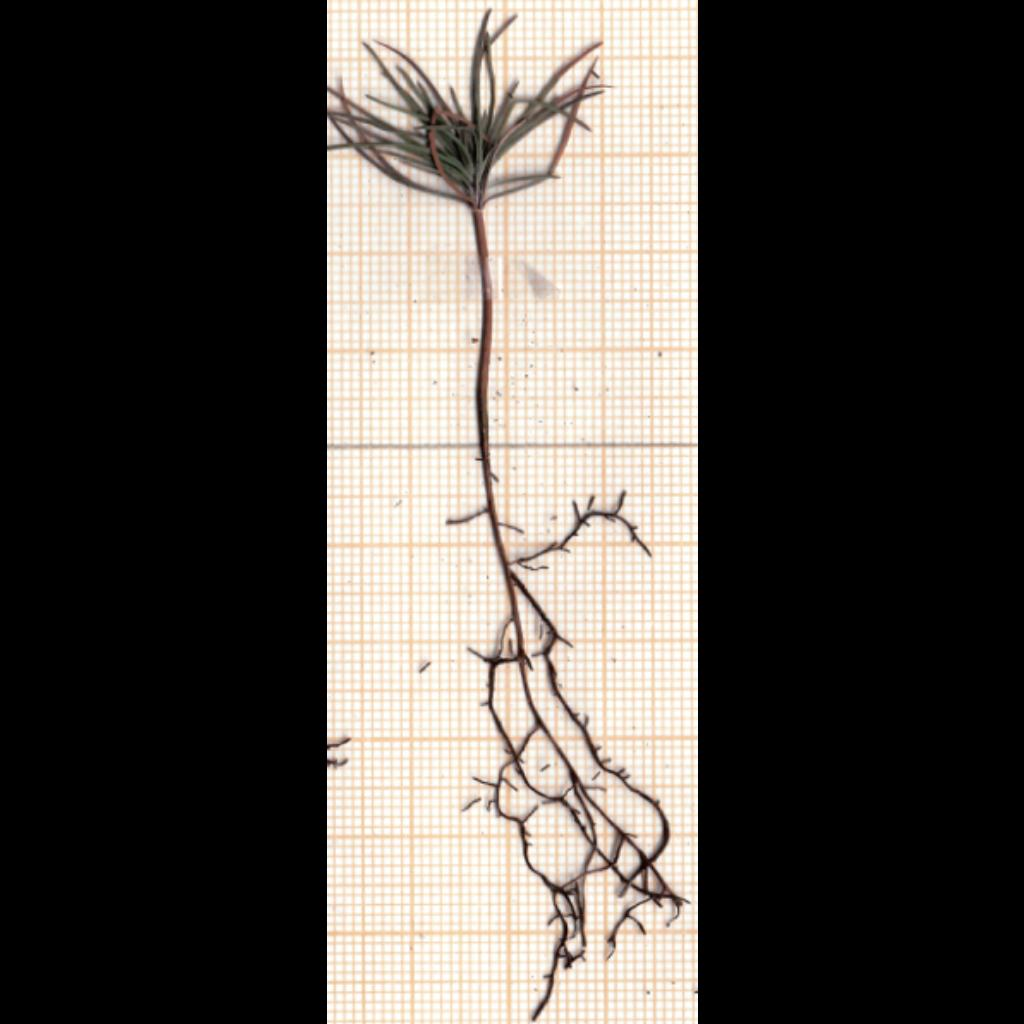flowerPinus: (327, 11, 601, 209)
rootPinus: (470, 492, 687, 1020)
stemPinus: (473, 210, 500, 546)
